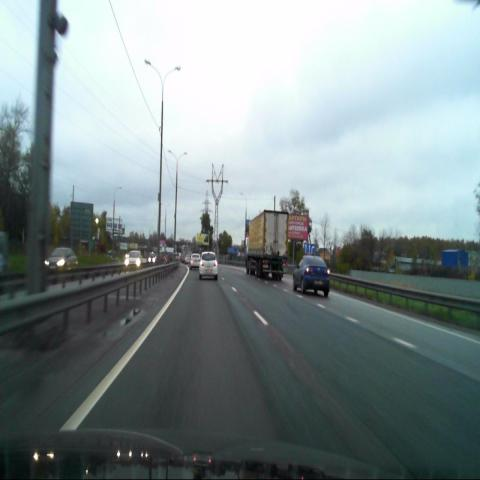5_15_1: (304, 243, 315, 254)
